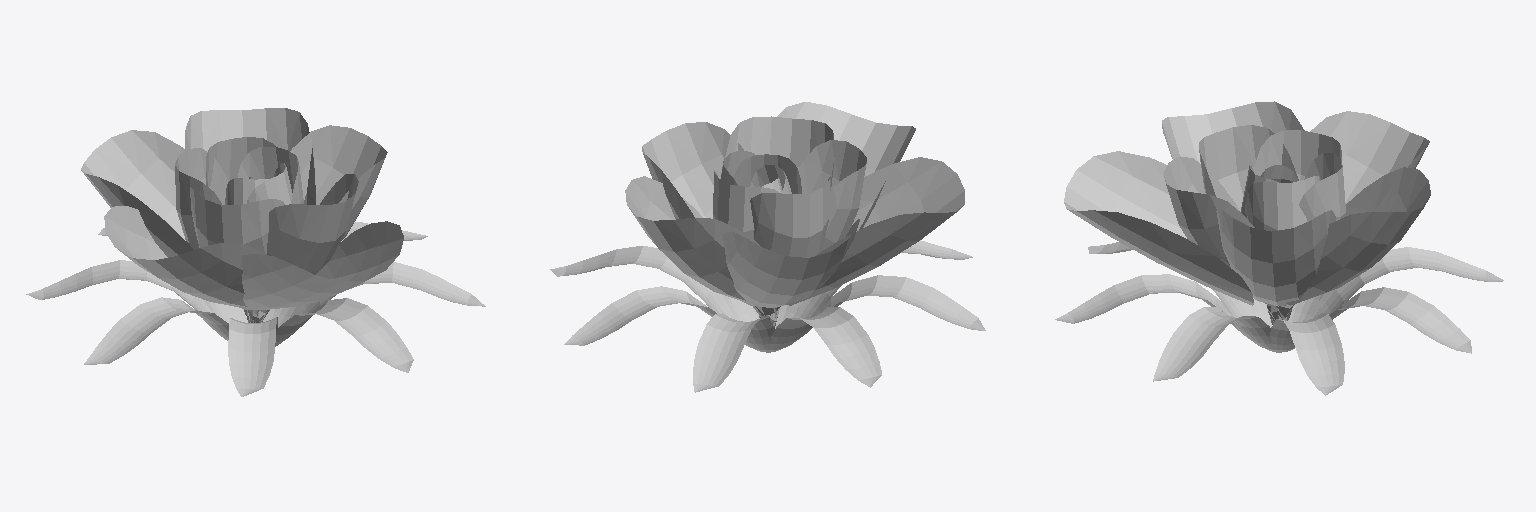
File: FlowerTopModel_03_seq_0031.obj
3 views of the same model, side by side, from view 1: azimuth 30°, elevation 25°; view 2: azimuth 150°, elevation 25°; view 3: azimuth 270°, elevation 25° (orthographic).
Parts seen in each view (by area): view 1: FlowerTopModel_03; view 2: FlowerTopModel_03; view 3: FlowerTopModel_03.
Part boxes in pixels (bbox=[...]): FlowerTopModel_03: bbox=[26, 108, 485, 396]; FlowerTopModel_03: bbox=[550, 102, 985, 392]; FlowerTopModel_03: bbox=[1055, 101, 1503, 395].
Size of the model in its own units: 781 by 360 by 781.